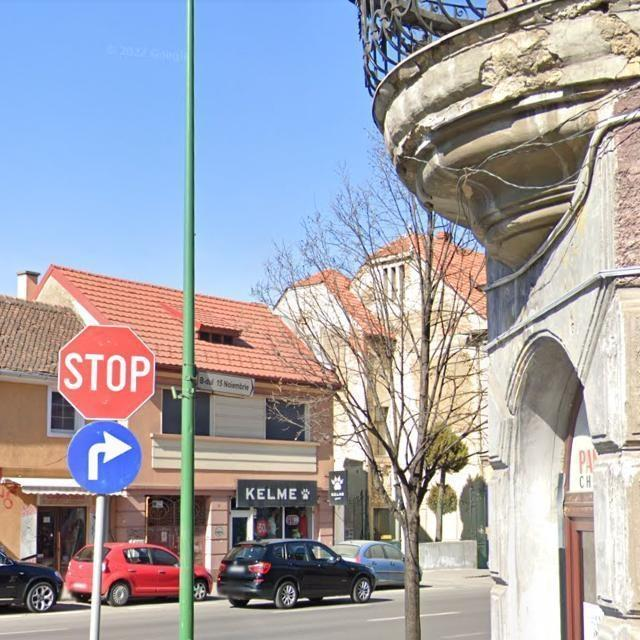prio_stop: (55, 325, 156, 420)
